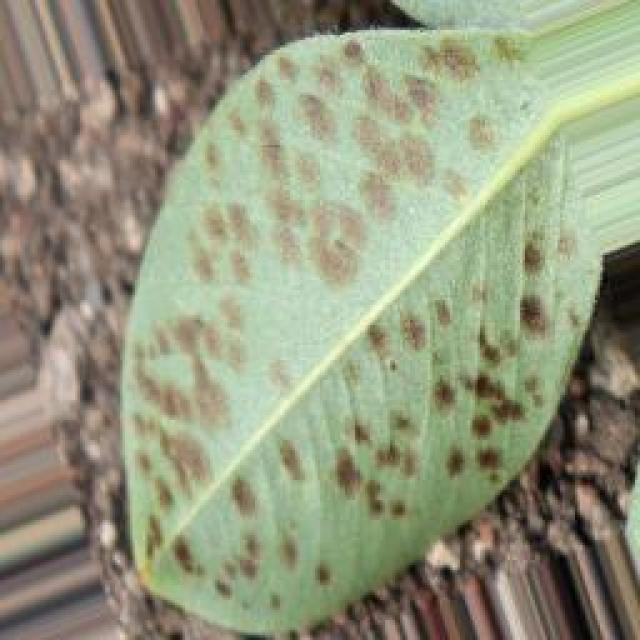Whitefly: (133, 8, 582, 606)
